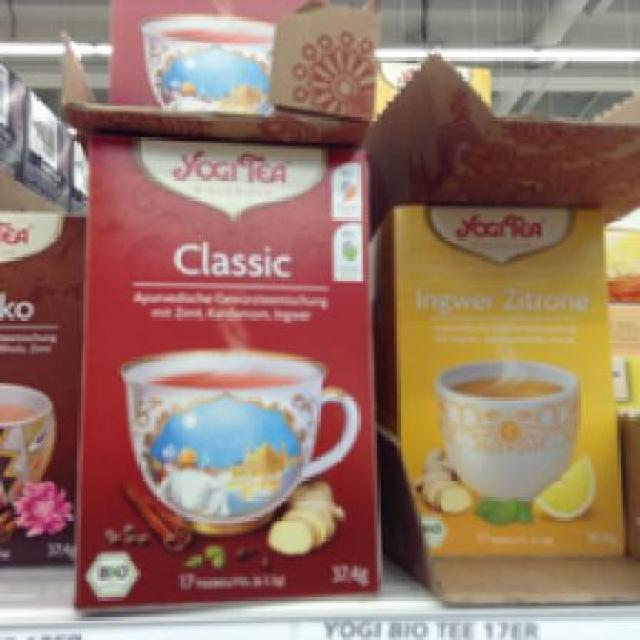Tea: (77, 128, 380, 614), (386, 200, 628, 557)
